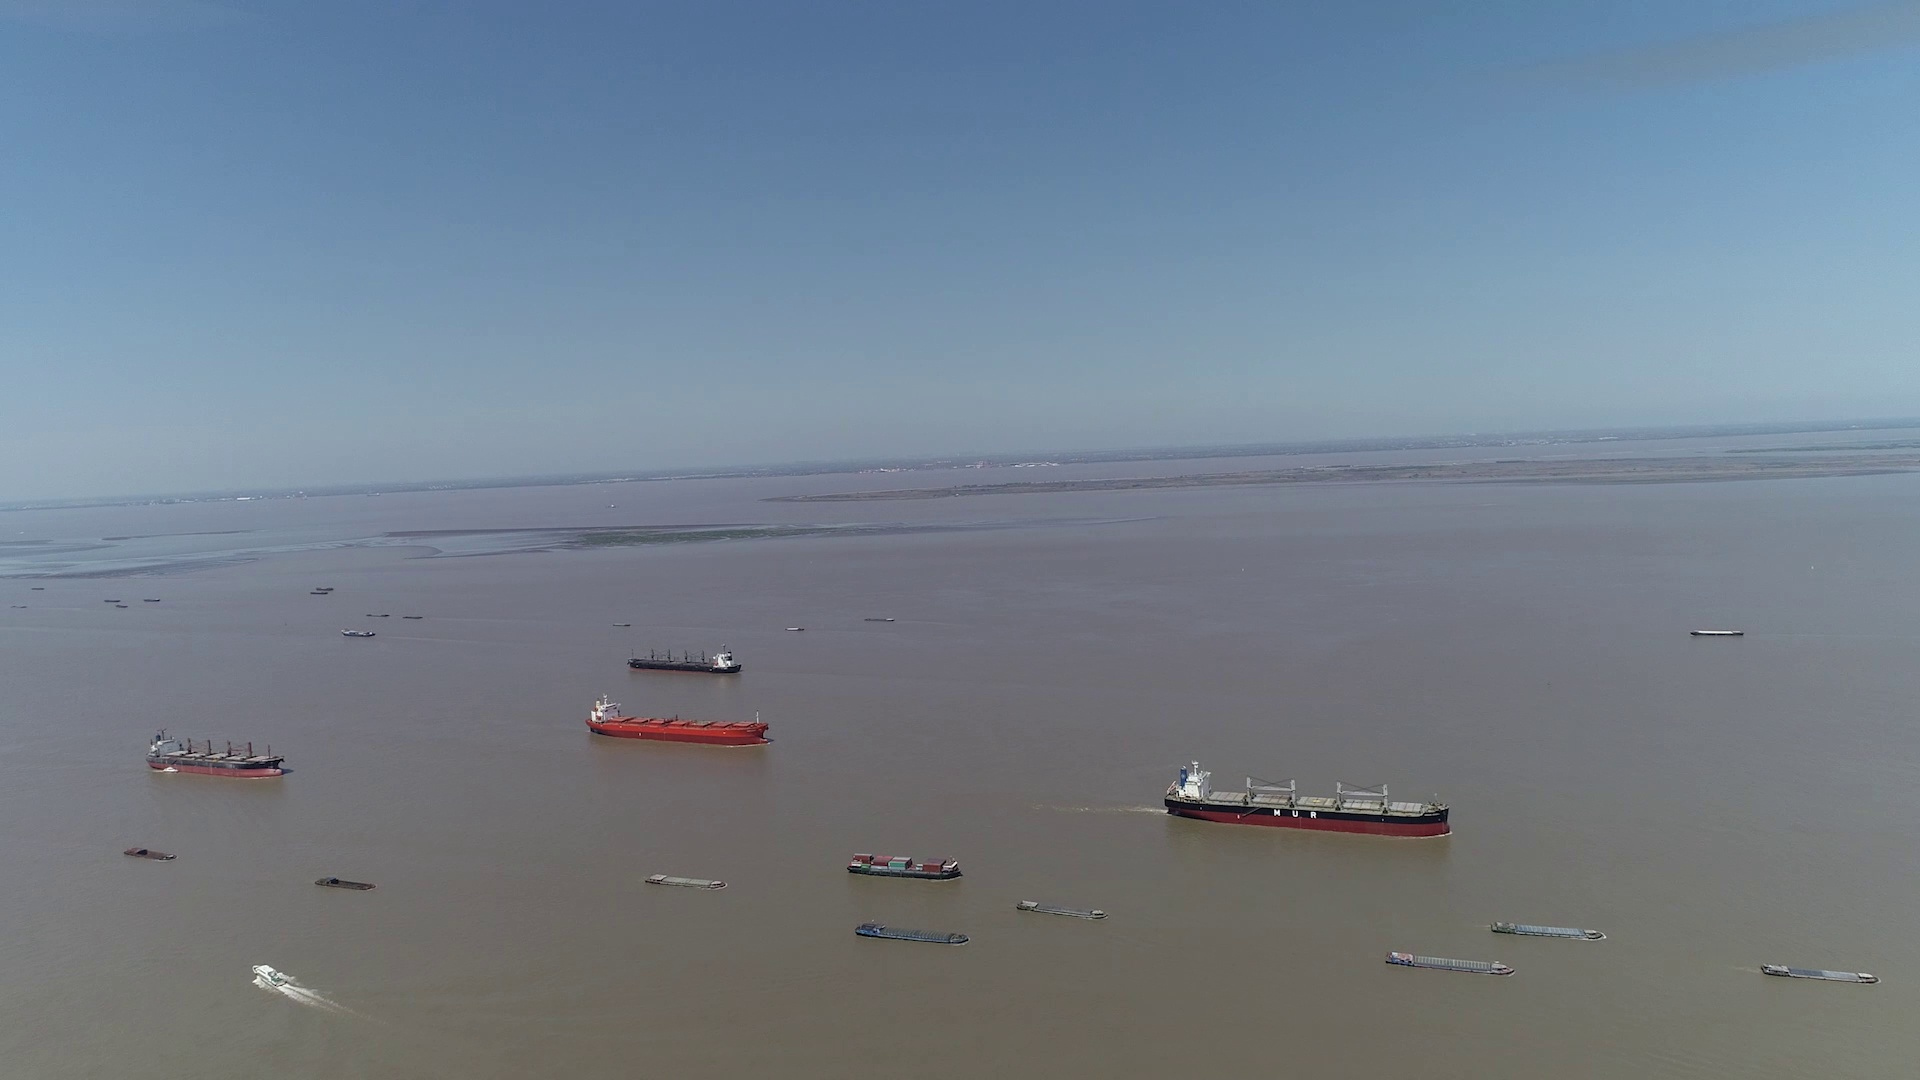ship: (1163, 764, 1452, 837), (585, 696, 769, 746), (152, 731, 280, 777), (1386, 949, 1520, 976), (626, 644, 742, 674), (847, 852, 960, 880), (855, 922, 971, 945), (1759, 963, 1879, 984), (1493, 920, 1605, 940), (1015, 899, 1108, 920), (644, 874, 725, 890), (316, 877, 375, 891), (124, 847, 175, 861), (251, 965, 284, 985), (1691, 628, 1745, 636), (343, 628, 376, 637)
